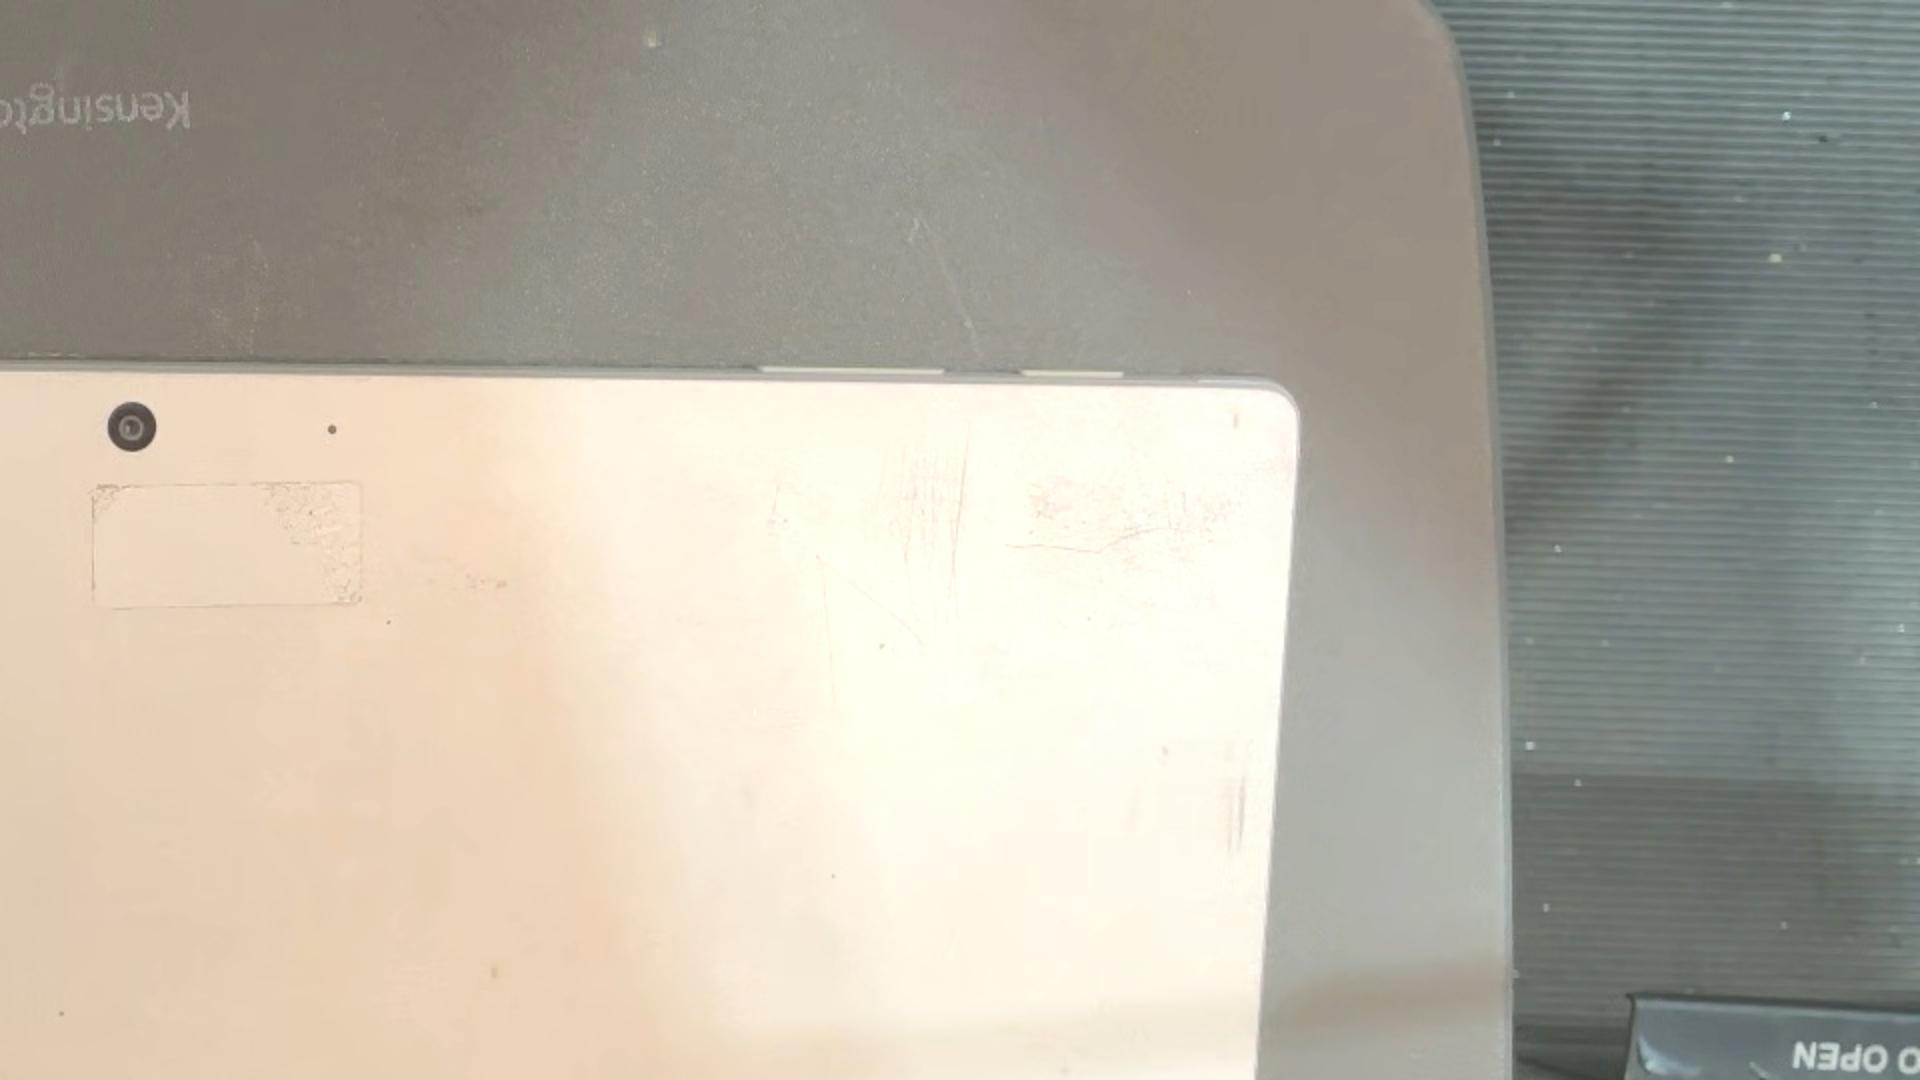scratches: (818, 555, 925, 644), (814, 552, 840, 706), (946, 439, 970, 600), (1237, 776, 1247, 842), (765, 483, 779, 528), (1227, 796, 1233, 853)
